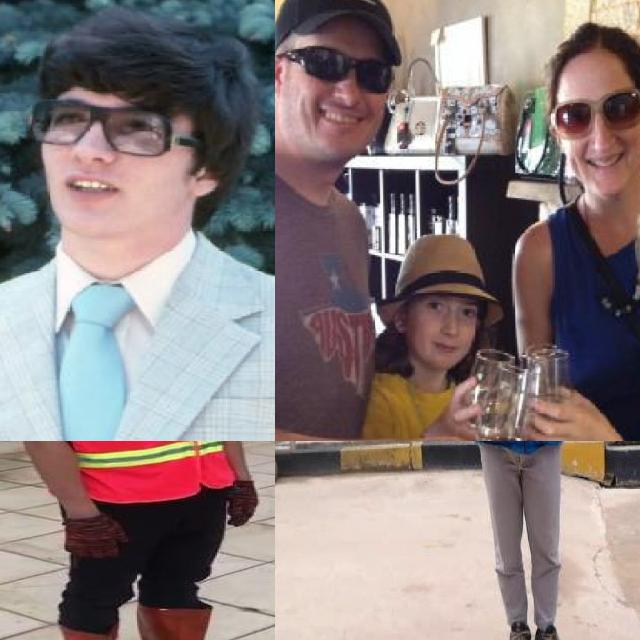boots: (137, 603, 258, 640), (499, 617, 532, 640), (534, 626, 573, 640)
face_nomask: (42, 101, 168, 222), (294, 38, 396, 149), (550, 77, 640, 184), (416, 284, 480, 361)
glasses: (34, 88, 218, 152), (275, 39, 407, 101), (548, 85, 640, 141)
hand_glove: (66, 514, 126, 559), (229, 479, 258, 528)
hand_noglove: (520, 386, 599, 441)
head_helmet: (381, 220, 507, 321), (275, 0, 416, 51)
head_nohelmet: (37, 15, 230, 111), (533, 16, 640, 76)
person: (0, 16, 275, 441), (0, 441, 274, 640), (366, 441, 640, 640)
vest: (62, 441, 225, 504)
